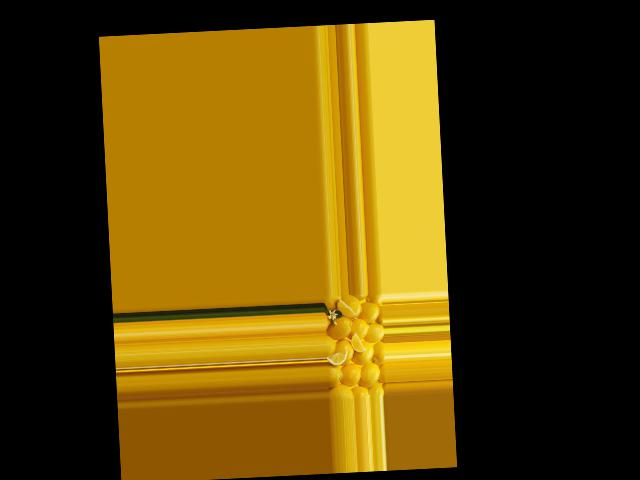lemon: (326, 363, 346, 387)
